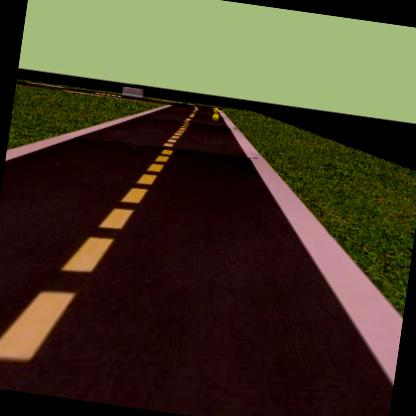Barrier: (119, 82, 146, 100)
Duckie: (208, 102, 224, 124)
